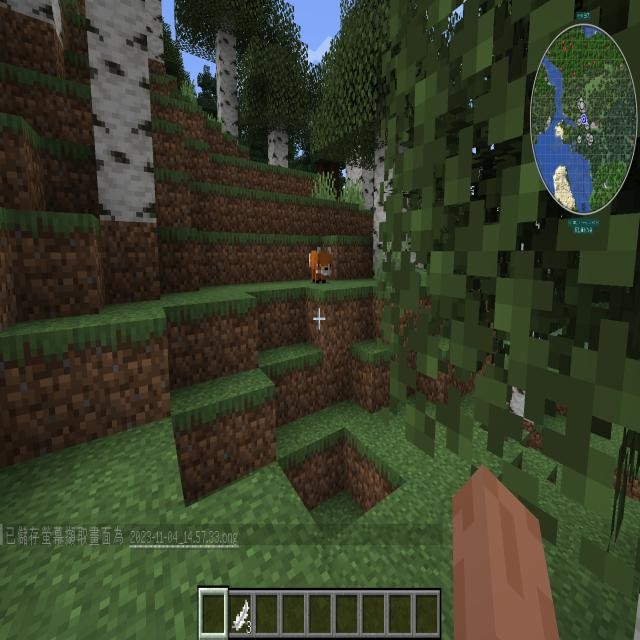Fox: (302, 239, 338, 293)
